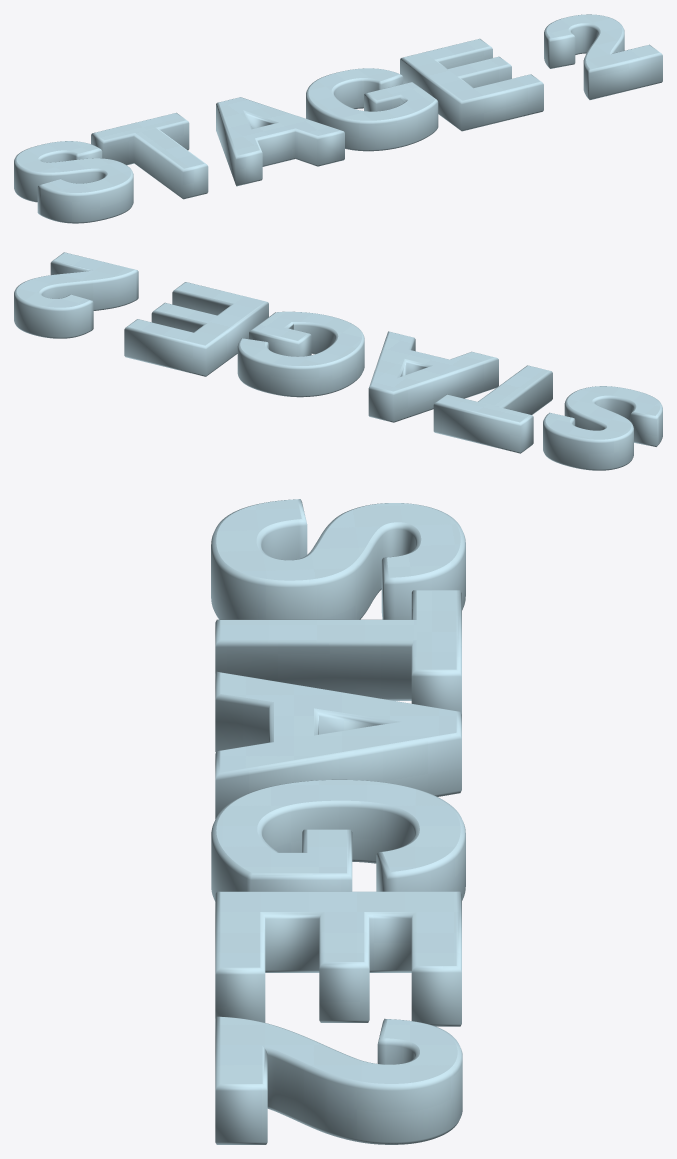
File: stage_2.obj
The picture shows the model from 3 angles, top to bottom: view 1: azimuth 30°, elevation 25°; view 2: azimuth 150°, elevation 25°; view 3: azimuth 270°, elevation 25°; orthographic projection. The views are drawn at different scales.
Visible parts, largest first — view 1: Stage2Label; view 2: Stage2Label; view 3: Stage2Label.
Part boxes in pixels (x1=…): Stage2Label: x1=14, y1=14, x2=662, y2=223; Stage2Label: x1=14, y1=252, x2=662, y2=470; Stage2Label: x1=211, y1=499, x2=465, y2=1144.
Size of the model in its own units: 3.5 by 0.1684 by 0.6396.
Materials: 1 (1 with a texture image).
